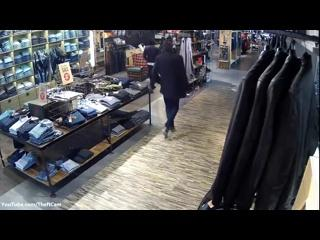Normal: (150, 36, 189, 139), (142, 39, 160, 84)
